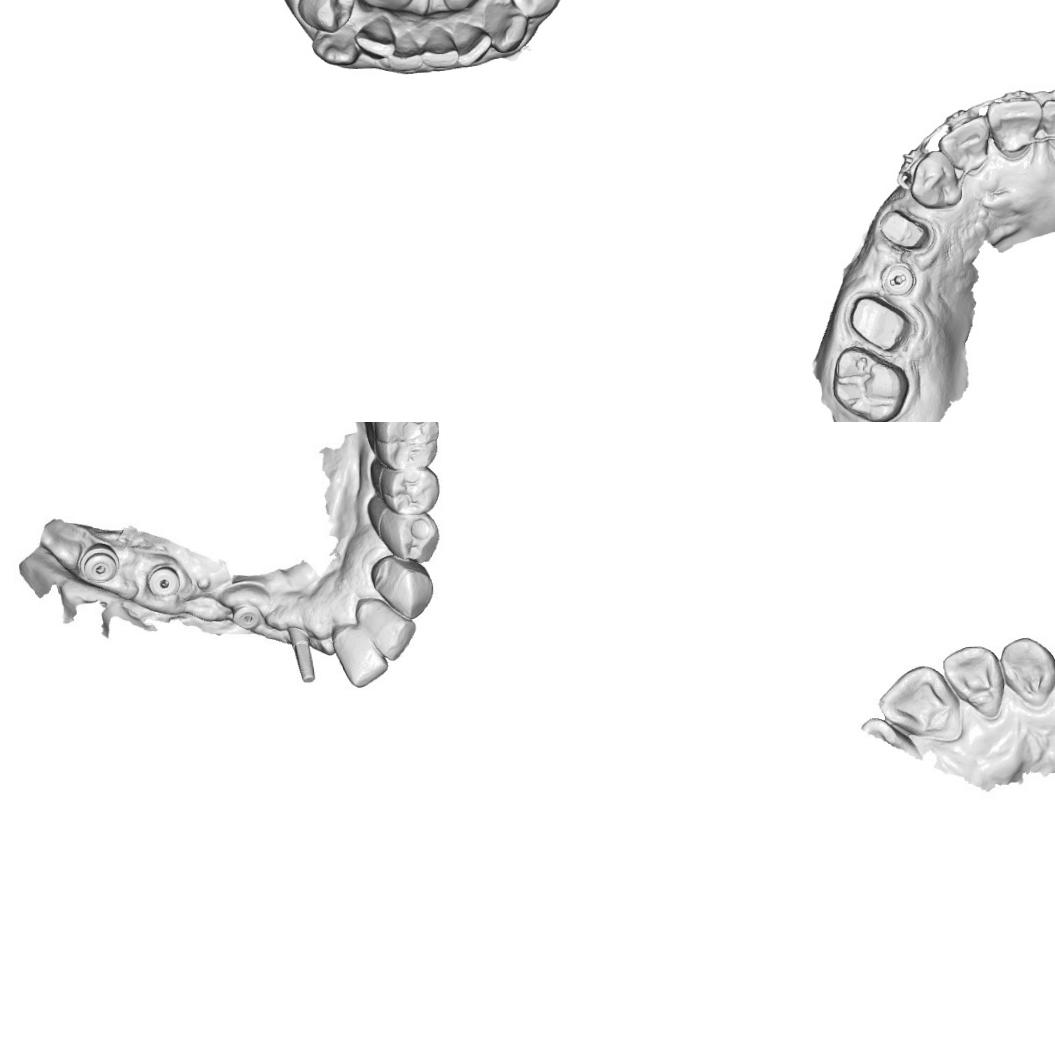abutment: (283, 619, 318, 687)
canine: (997, 631, 1055, 709), (372, 553, 436, 621), (907, 145, 965, 210), (306, 12, 363, 69), (486, 0, 534, 56)
crown: (839, 284, 923, 359), (870, 204, 942, 256)
implant: (79, 542, 120, 583), (145, 558, 182, 600), (231, 601, 265, 634)
implant_minus: (878, 258, 917, 298)
incisor: (876, 663, 957, 740), (939, 642, 1006, 720), (360, 597, 421, 662), (985, 96, 1044, 161), (936, 111, 992, 176), (339, 624, 388, 692), (448, 14, 496, 68), (353, 7, 399, 62), (386, 26, 427, 79), (418, 25, 460, 76), (1034, 90, 1055, 158)
molar: (828, 342, 912, 422), (376, 422, 444, 473)
premolar: (379, 509, 442, 562), (384, 465, 439, 516), (294, 0, 360, 35), (505, 0, 562, 20)
